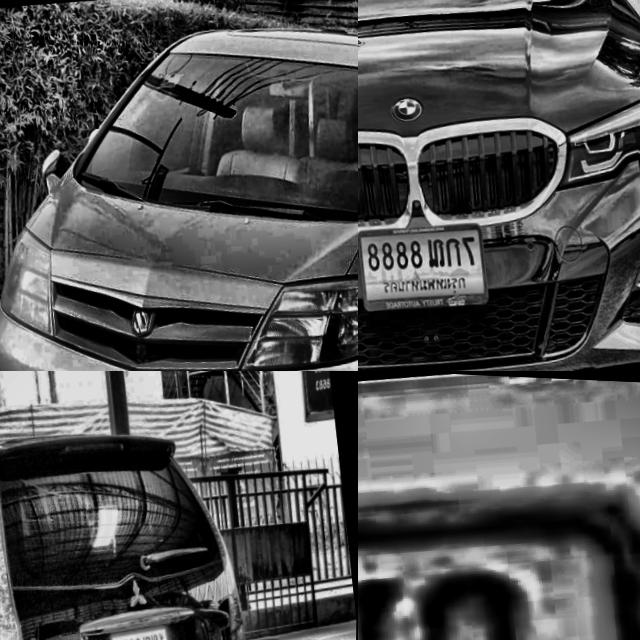license-plate: (358, 416, 640, 640), (358, 214, 490, 316), (106, 614, 179, 640)
